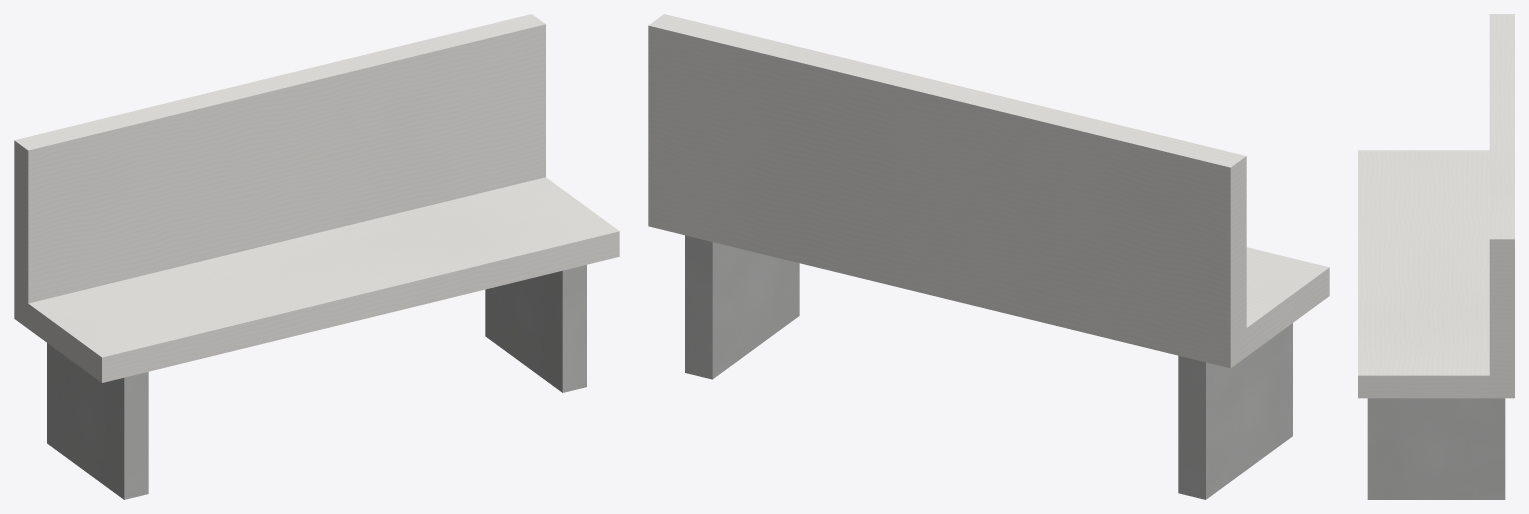
File: bench.gltf
The picture shows the model from 3 angles, left to right: view 1: azimuth 30°, elevation 25°; view 2: azimuth 150°, elevation 25°; view 3: azimuth 270°, elevation 25°; orthographic projection. The views are drawn at different scales.
Parts seen in each view (by area): view 1: jx_bench; view 2: jx_bench; view 3: jx_bench.
Part boxes in pixels (<box>): jx_bench: <box>14,14,619,499</box>; jx_bench: <box>648,14,1329,499</box>; jx_bench: <box>1358,14,1514,499</box>.
Size of the model in its own units: 1.7 by 0.96 by 0.5.
Materials: 2 (2 with a texture image).
